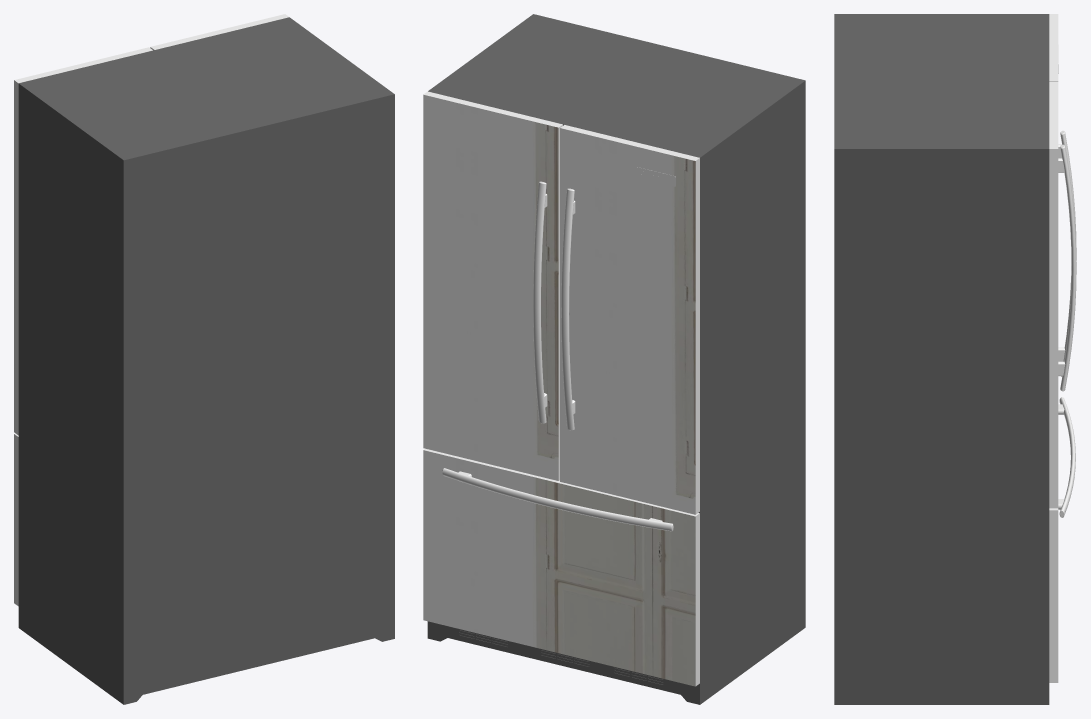
The picture shows the model from 3 angles, left to right: view 1: azimuth 30°, elevation 25°; view 2: azimuth 150°, elevation 25°; view 3: azimuth 270°, elevation 25°; orthographic projection. The views are drawn at different scales.
Visible parts, largest first — view 1: mesh5_mesh5-geometry, mesh3_mesh3-geometry, mesh1_mesh1-geometry, mesh34_mesh34-geometry; view 2: mesh5_mesh5-geometry, mesh3_mesh3-geometry, mesh34_mesh34-geometry, mesh1_mesh1-geometry, mesh56_mesh56-geometry; view 3: mesh5_mesh5-geometry, mesh34_mesh34-geometry, mesh56_mesh56-geometry, mesh1_mesh1-geometry, mesh3_mesh3-geometry.
Boxes of the visible parts, bbox=[...] form: mesh5_mesh5-geometry: bbox=[18, 17, 394, 704]; mesh3_mesh3-geometry: bbox=[14, 47, 152, 435]; mesh1_mesh1-geometry: bbox=[14, 433, 18, 606]; mesh34_mesh34-geometry: bbox=[150, 14, 289, 50]; mesh5_mesh5-geometry: bbox=[427, 14, 805, 704]; mesh3_mesh3-geometry: bbox=[560, 125, 699, 514]; mesh34_mesh34-geometry: bbox=[423, 91, 562, 480]; mesh1_mesh1-geometry: bbox=[423, 448, 699, 686]; mesh56_mesh56-geometry: bbox=[442, 181, 673, 531]; mesh5_mesh5-geometry: bbox=[834, 14, 1049, 704]; mesh34_mesh34-geometry: bbox=[1049, 82, 1058, 508]; mesh56_mesh56-geometry: bbox=[1059, 130, 1076, 517]; mesh1_mesh1-geometry: bbox=[1049, 508, 1058, 682]; mesh3_mesh3-geometry: bbox=[1049, 14, 1058, 81].
Bounding box in the file's own units: 0.436 × 0.8371 × 0.3305.
